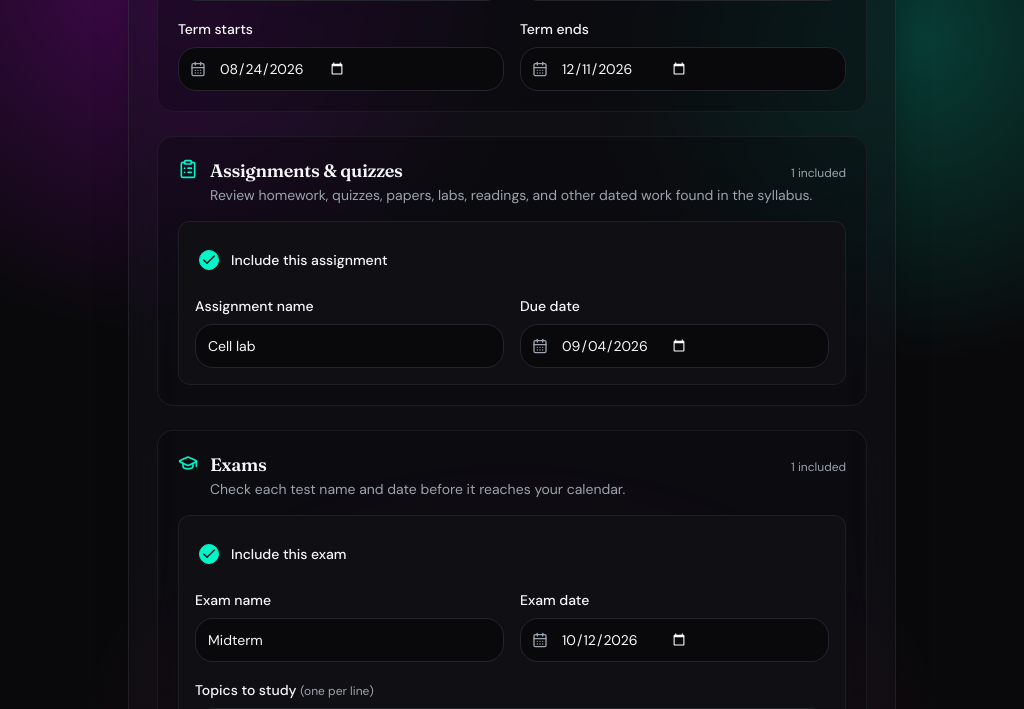
it: ClassSyllabusPage › retains corrected review fields after a save error
Earlier steps of the test are not shown.
Later steps or results of the test are not shown.
(page scrolled)
Replace the text in the field labelled "Assignment name" with "Cell membrane lab" at (350, 346), box [195,324,504,368]
(page scrolled)
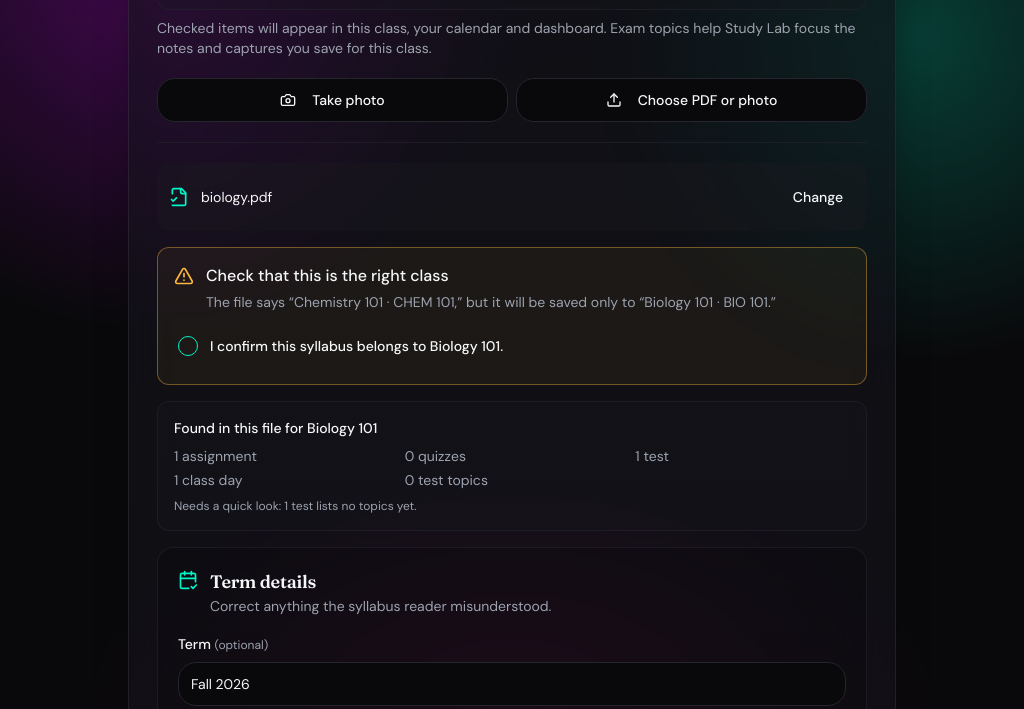
Click the checkbox named "confirm this syllabus belongs to Biology 101".
click(188, 346)  # box [178,336,198,356]
(page scrolled)
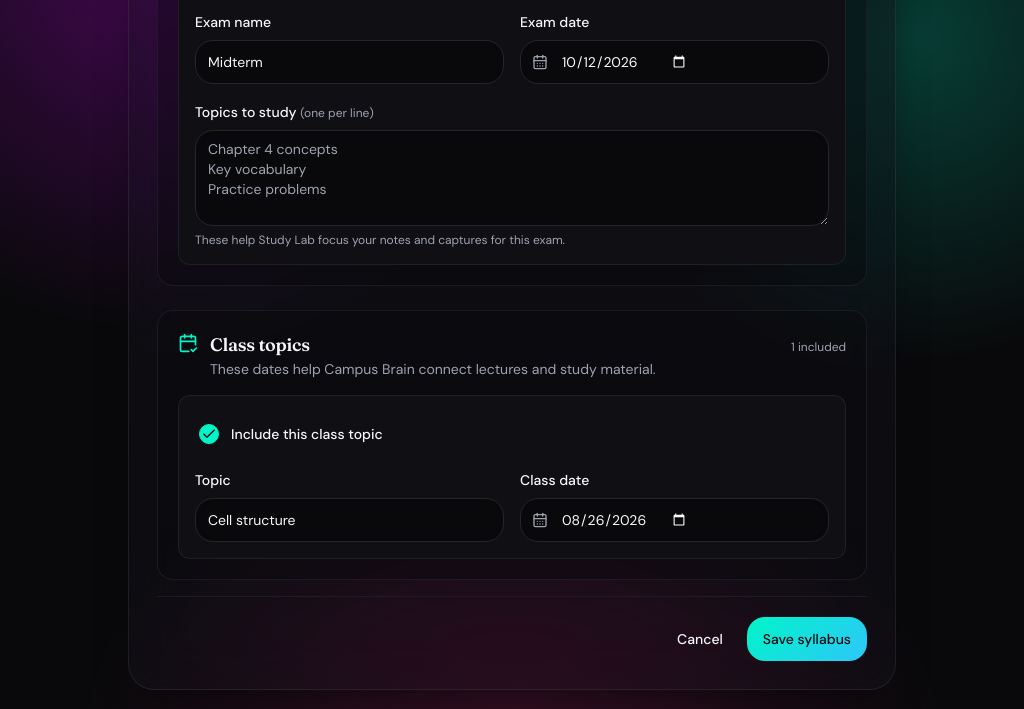
Expected: the button "Save syllabus" is enabled, [747,617,867,661]
